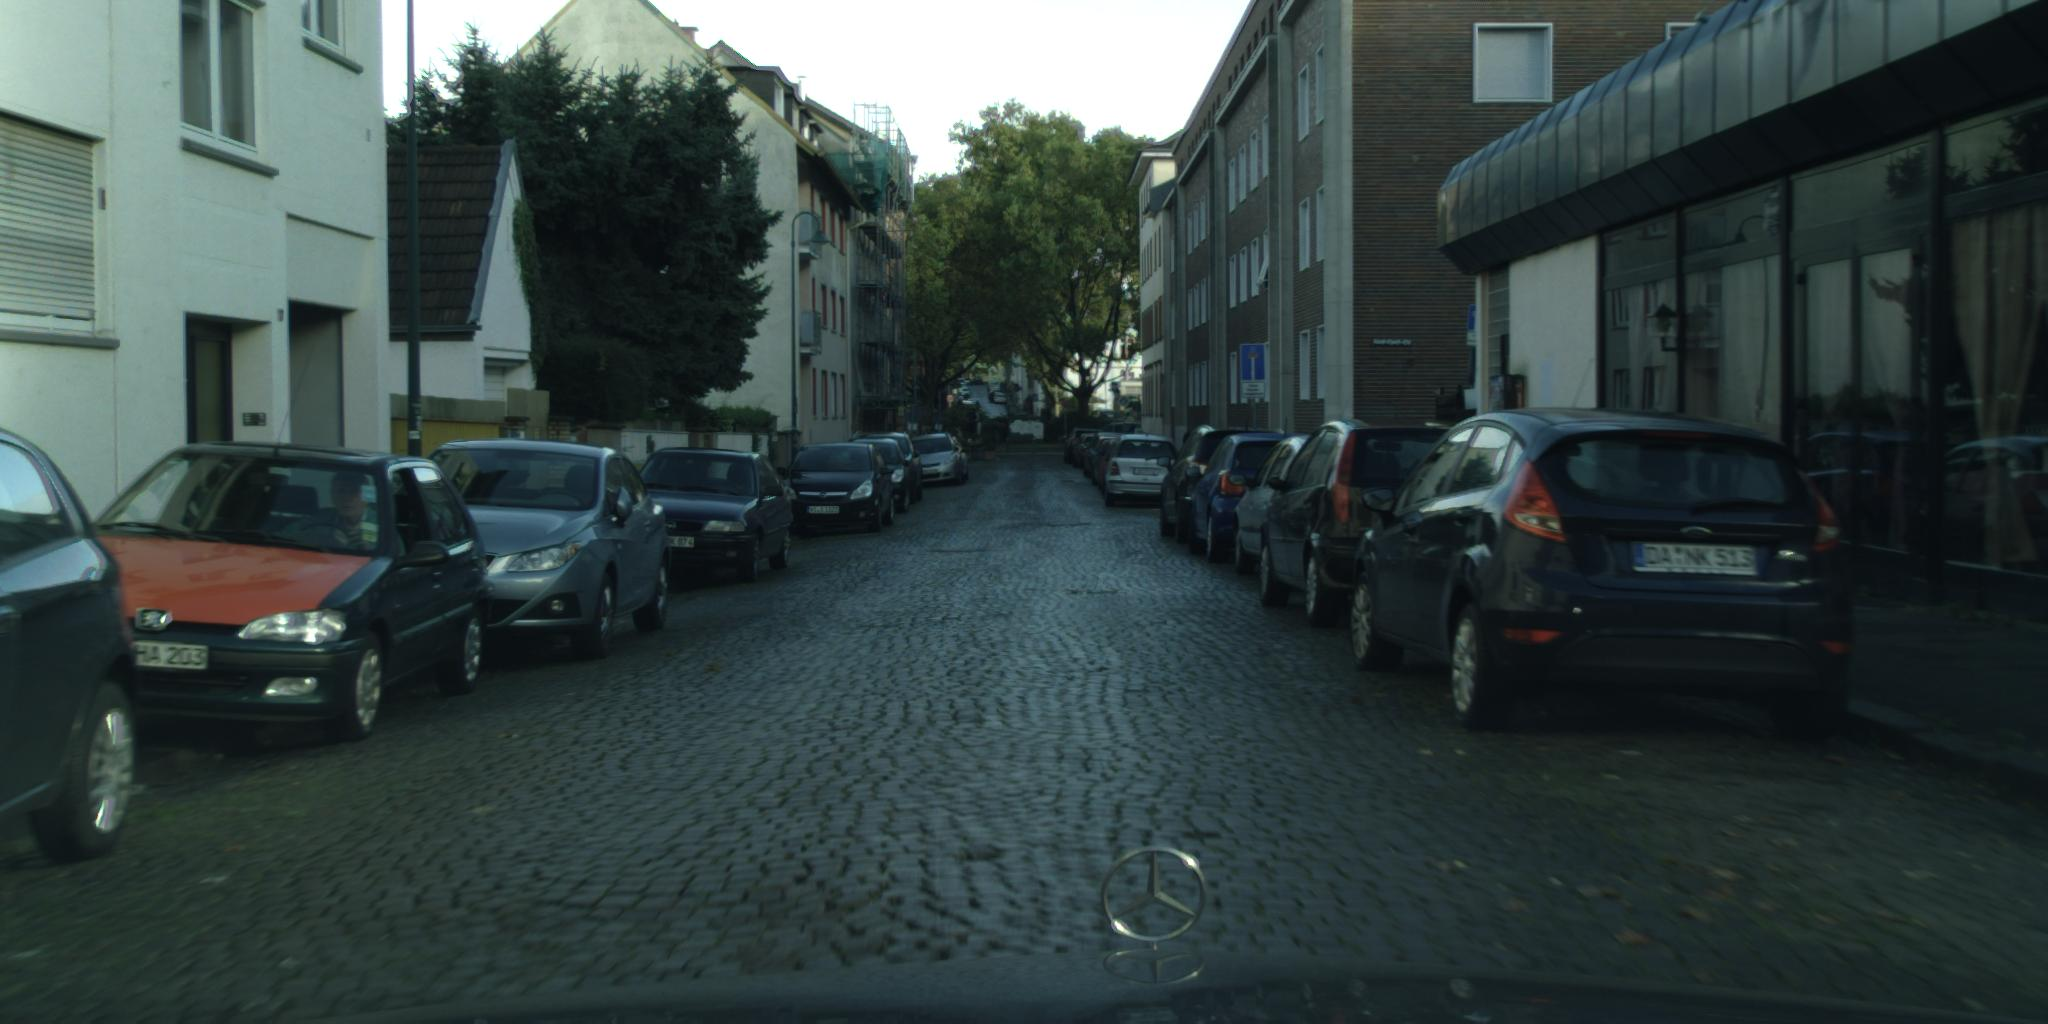car: (1351, 408, 1853, 744), (69, 441, 496, 744), (1, 428, 138, 861), (411, 439, 673, 661), (1259, 421, 1472, 628), (624, 448, 794, 584), (1186, 434, 1313, 564), (1159, 424, 1289, 545), (1230, 438, 1318, 576), (776, 443, 895, 533), (1105, 435, 1182, 508), (854, 432, 923, 504), (849, 438, 910, 512), (905, 434, 964, 487), (1081, 434, 1125, 478), (1063, 428, 1102, 465), (1091, 439, 1119, 488), (950, 438, 969, 481), (1072, 434, 1096, 468), (1105, 423, 1145, 441), (1091, 411, 1123, 421)
